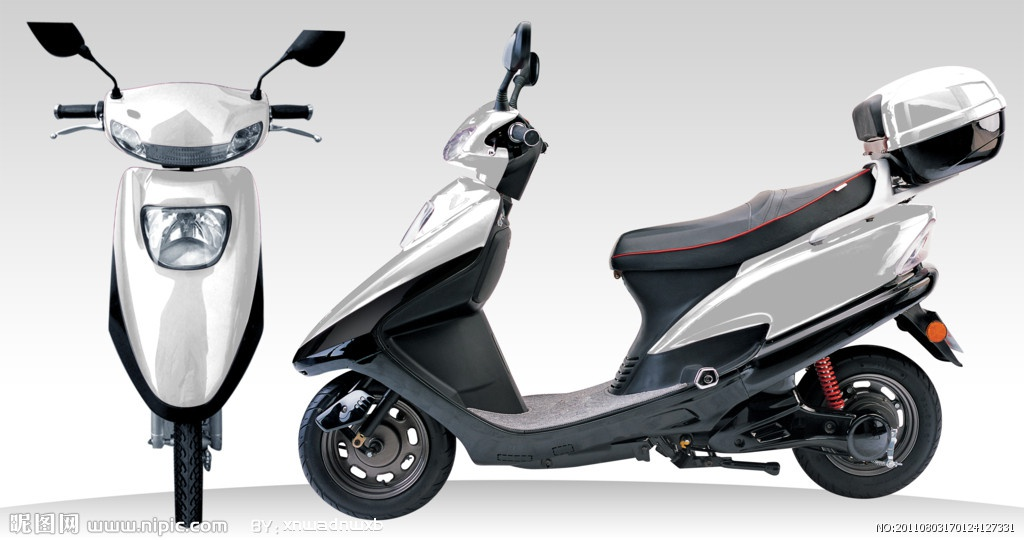non-vehicle: (306, 26, 1005, 527), (51, 39, 310, 533)
